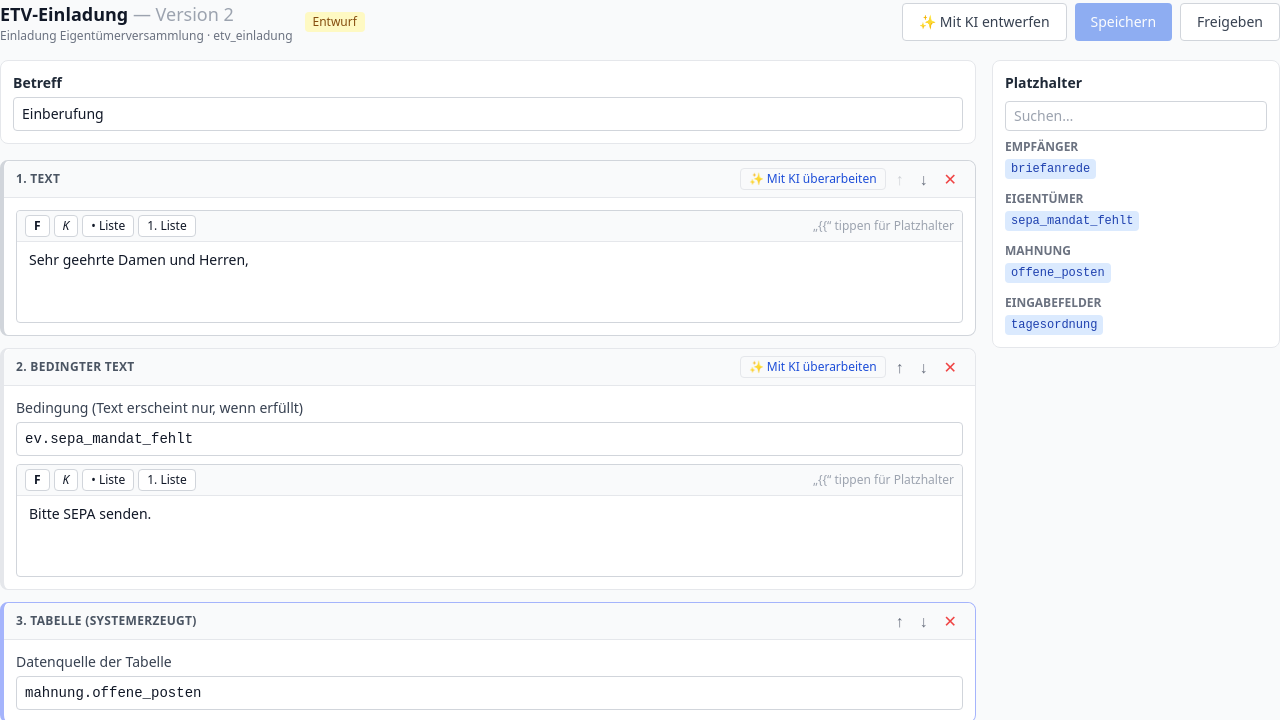
Test: VorlagenEditor — KI-Assistent › blendet die KI-Buttons aus, sobald ein Aufruf „nicht verfügbar“ (503) meldet
Click the button "✨ Mit KI entwerfen" at (984, 22), box [902,3,1066,41]
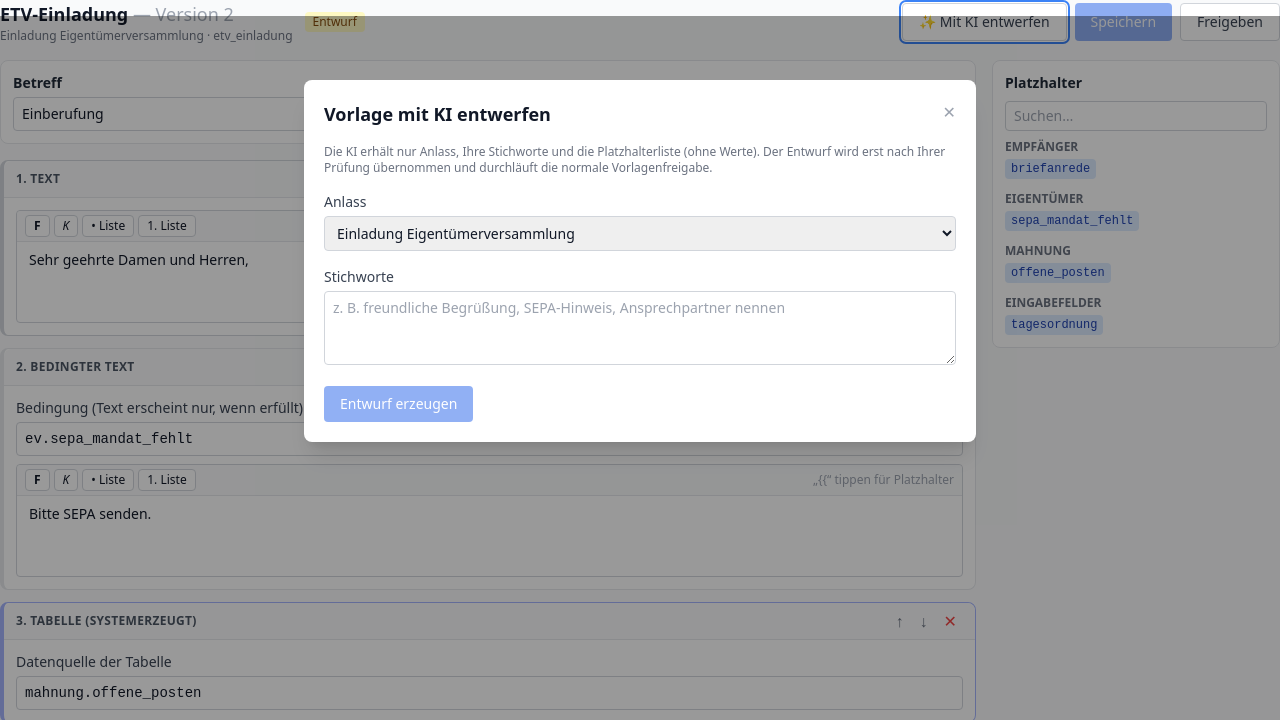
Type "kurz" into the text box labelled "Stichworte" at (640, 328), box [324,291,956,365]
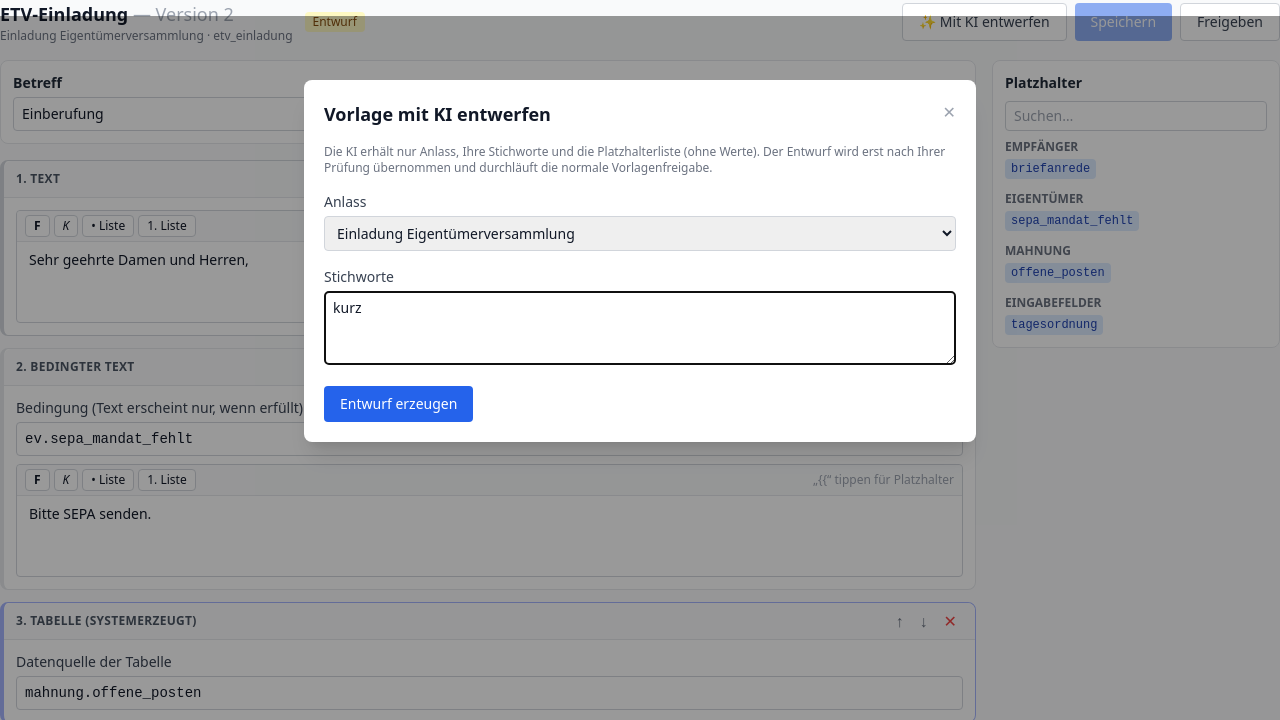
Click the button "Entwurf erzeugen" at (399, 404), box [324,386,473,422]
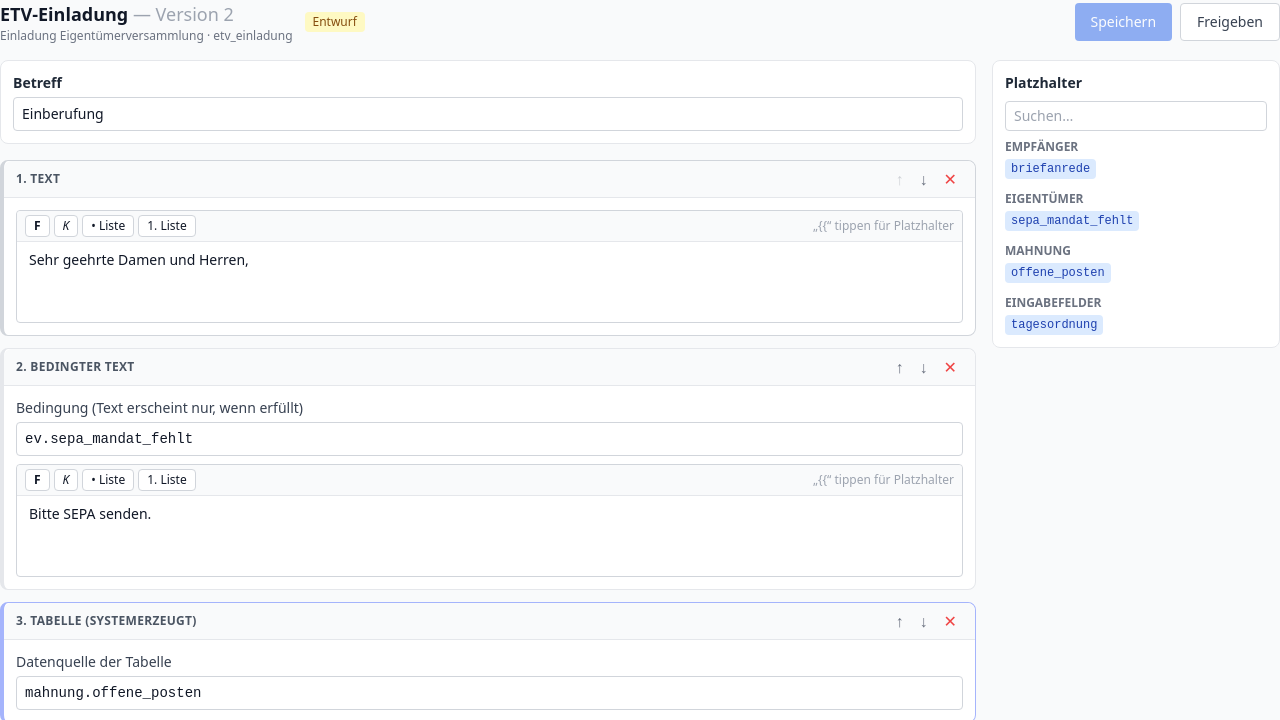
Result: the button "Mit KI entwerfen" is gone
Result: the dialog is gone
